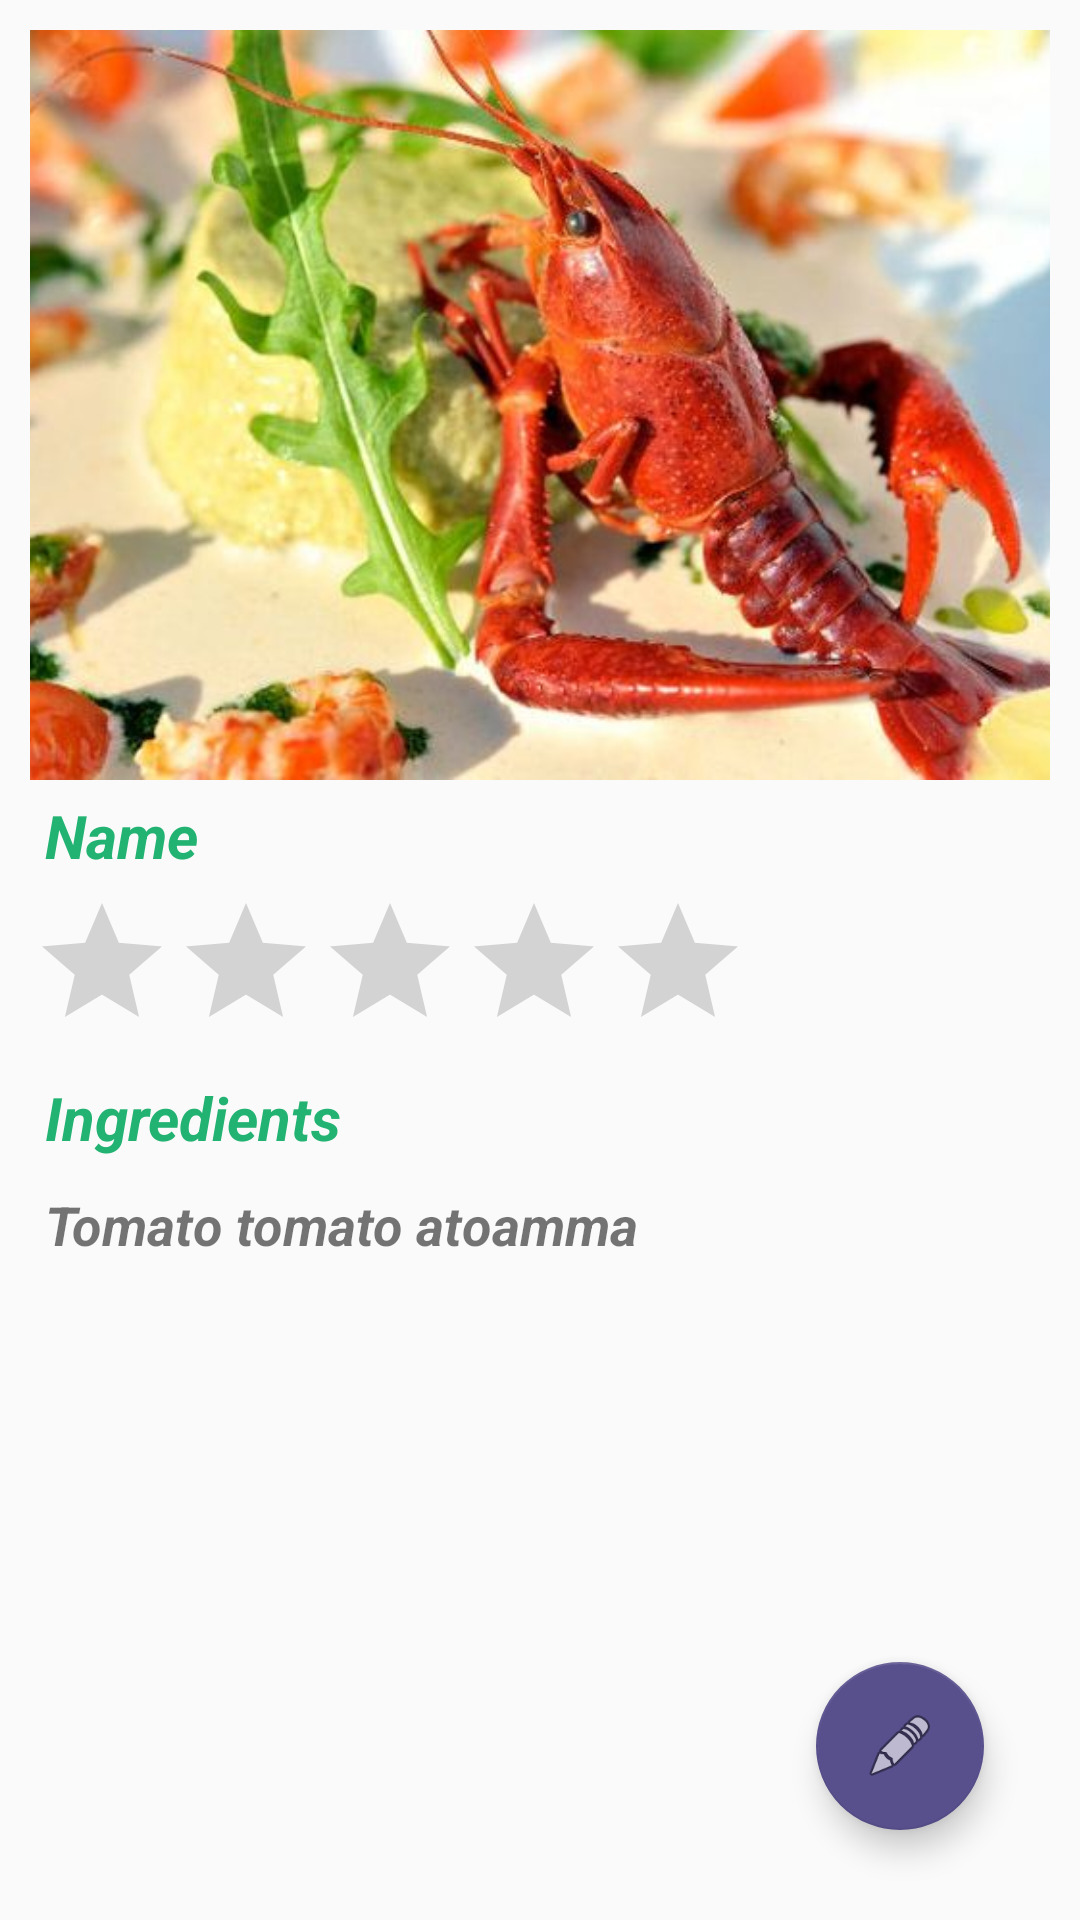

Where to tap for icons on this 1080w x 1920h app screen, as point (x, y):
edit: point (900, 1746)
